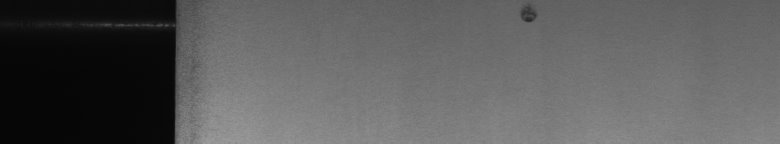fi: (516, 4, 541, 32)
